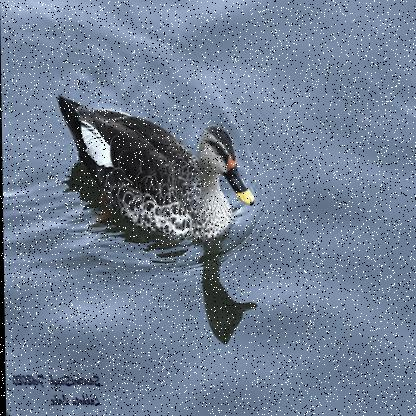Burung: (56, 95, 256, 240)
